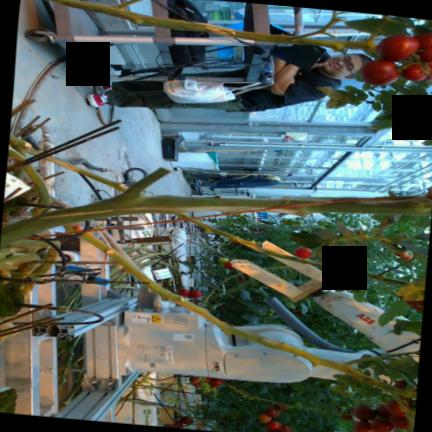6kp_petiole: (345, 20, 385, 52), (321, 357, 375, 379), (367, 266, 399, 283)
MainStem: (77, 232, 415, 399), (0, 195, 432, 248), (48, 0, 376, 52), (186, 219, 409, 285)
tomato: (376, 35, 418, 62), (358, 60, 399, 85), (414, 34, 432, 62), (401, 64, 426, 81), (294, 247, 312, 259)
